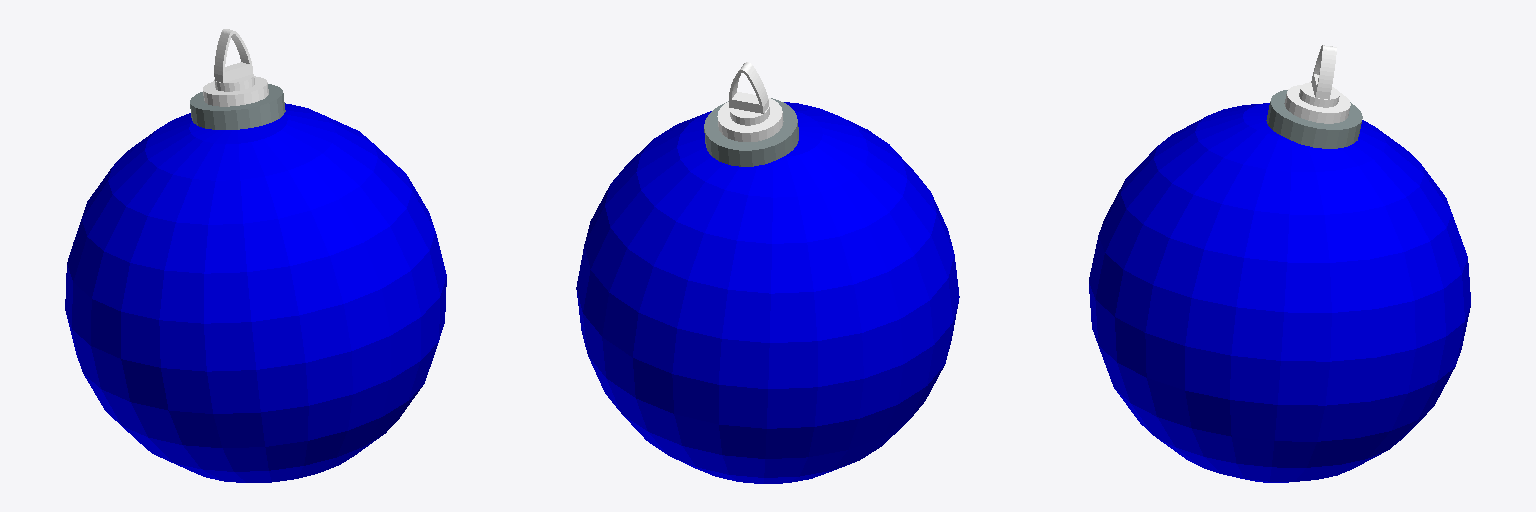
File: Bauble.obj
3 renders of one model, left to right at view 1: azimuth 30°, elevation 25°; view 2: azimuth 150°, elevation 25°; view 3: azimuth 270°, elevation 25°, orthographic.
Visible parts, largest first — view 1: Mesh1 sketchup_download[number redacted]_1 Group3 Group2 Group1 Mo, Mesh2 Group1 Model; view 2: Mesh1 sketchup_download[number redacted]_1 Group3 Group2 Group1 Mo, Mesh2 Group1 Model; view 3: Mesh1 sketchup_download[number redacted]_1 Group3 Group2 Group1 Mo, Mesh2 Group1 Model.
Part boxes in pixels (x1,y1,x2,y2): Mesh1 sketchup_download[number redacted]_1 Group3 Group2 Group1 Mo: (65,103,446,482); Mesh2 Group1 Model: (190,29,285,129); Mesh1 sketchup_download[number redacted]_1 Group3 Group2 Group1 Mo: (576,102,959,483); Mesh2 Group1 Model: (704,62,798,166); Mesh1 sketchup_download[number redacted]_1 Group3 Group2 Group1 Mo: (1089,103,1470,482); Mesh2 Group1 Model: (1266,45,1362,148).
Bounding box in the file's own units: 97.9 × 118 × 97.94.